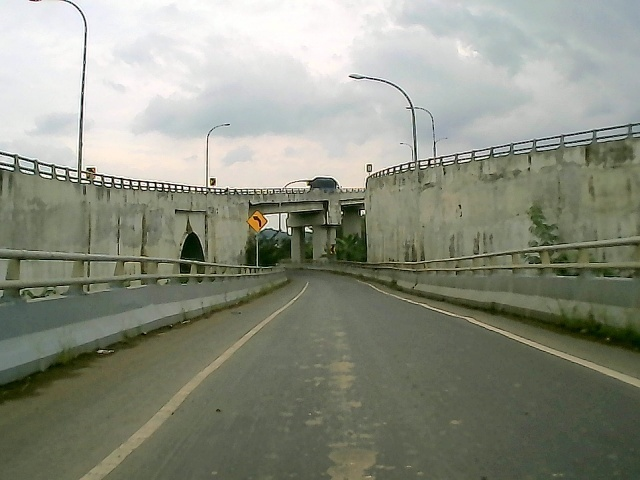Tikungan ke kiri: (246, 209, 271, 236)
